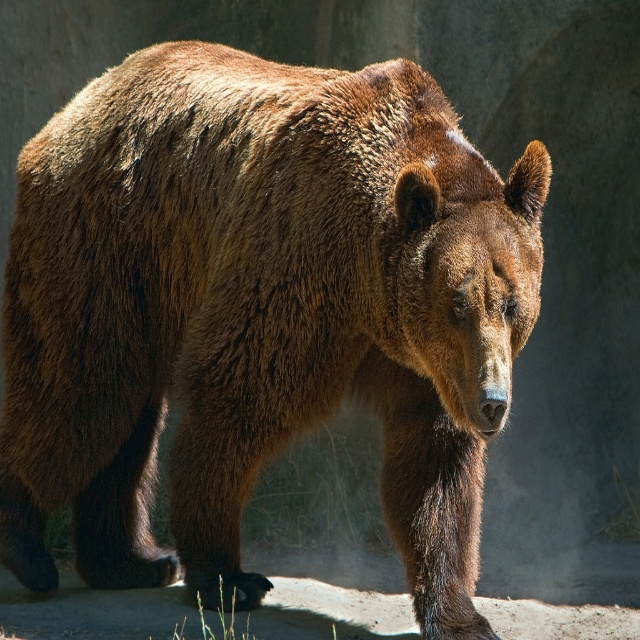Brown bear: (0, 39, 554, 640)
